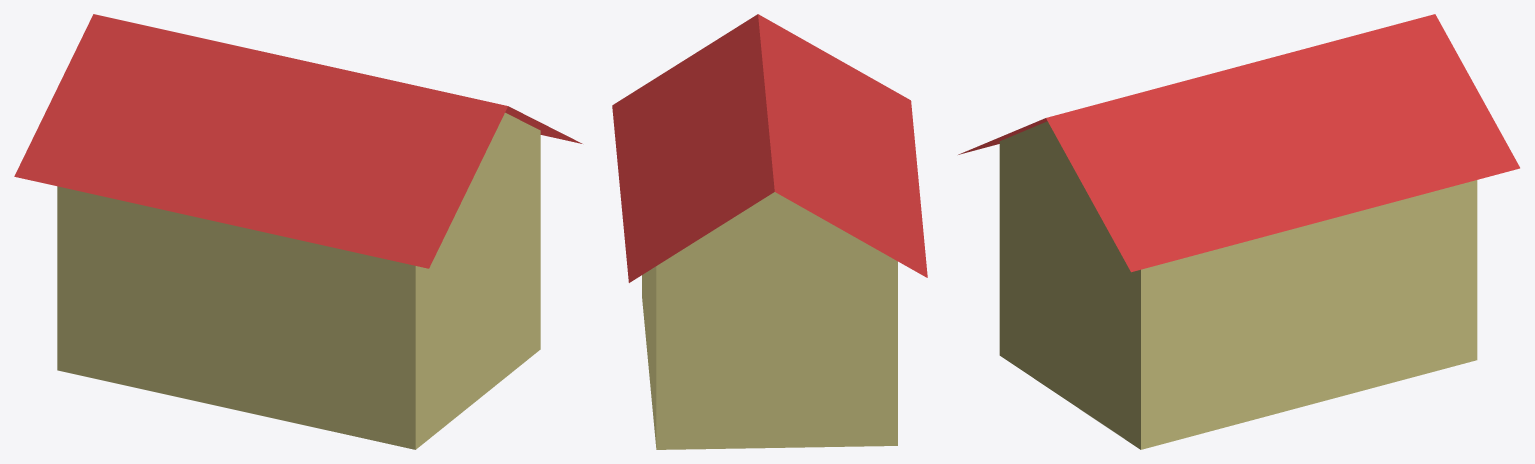
3 renders of one model, left to right at view 1: azimuth 30°, elevation 25°; view 2: azimuth 150°, elevation 25°; view 3: azimuth 270°, elevation 25°, orthographic. The views are drawn at different scales.
Bounding box in the file's own units: 16.69 × 18.02 × 10.34.
